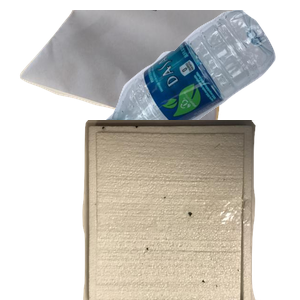glass: (98, 168, 251, 300)
paper: (17, 10, 254, 141)
plastic: (90, 10, 300, 156)
trash: (80, 120, 300, 300)
